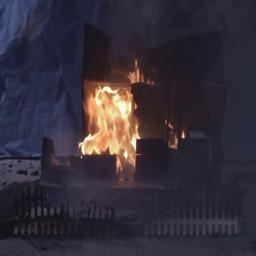fire: (81, 61, 154, 171)
